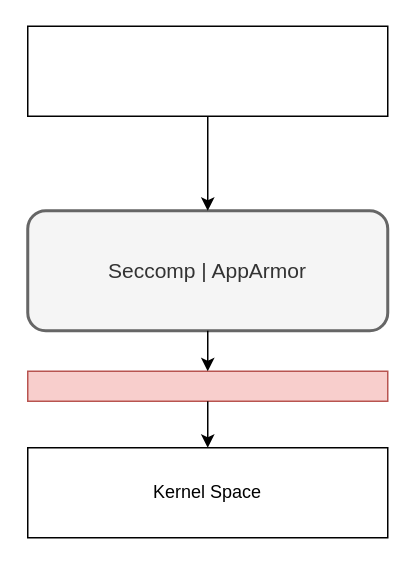
Image size: 414x564. Some labels were removed from this diagram. The box of each missing label's shape, as (x1, y1, x2, y2) in pixels:
Syscall Interface: (26, 370, 388, 401)
User Space: (26, 25, 388, 116)
